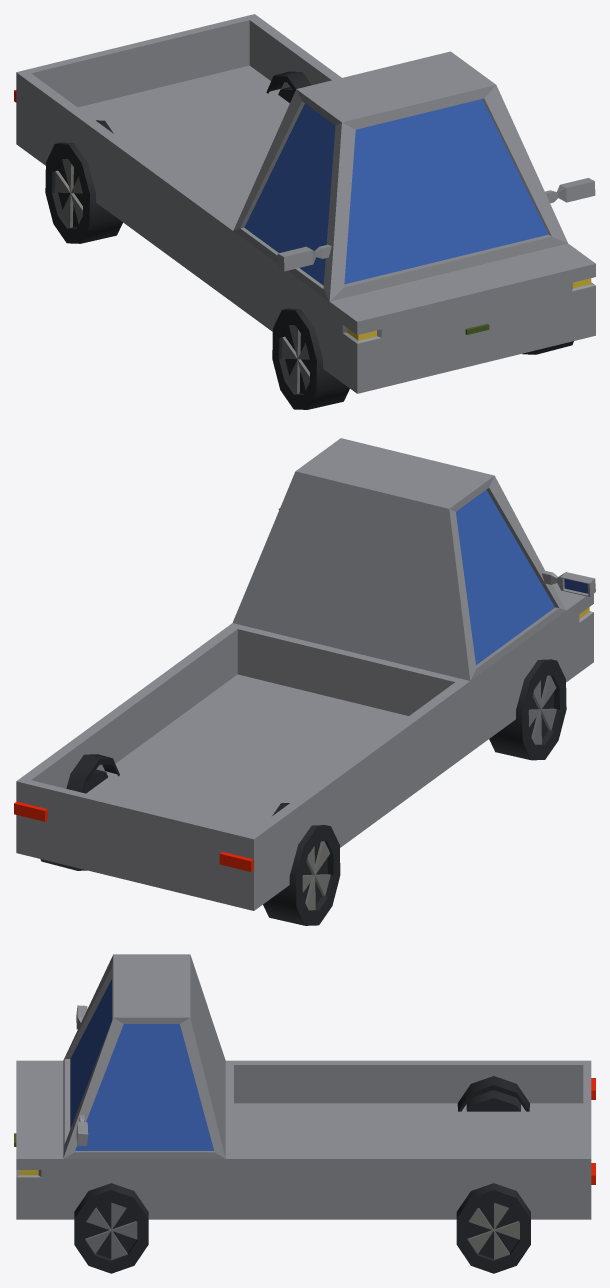
Rendered from Van_1.fbx.
3 views of the same model, one above another, from view 1: azimuth 30°, elevation 25°; view 2: azimuth 150°, elevation 25°; view 3: azimuth 270°, elevation 25° (orthographic). The views are drawn at different scales.
Parts seen in each view (by area): view 1: Van_1; view 2: Van_1; view 3: Van_1.
Boxes of the visible parts, x1,y1,x2,y2 form: Van_1: (14, 14, 595, 409); Van_1: (14, 438, 595, 925); Van_1: (14, 954, 595, 1273).
Bounding box in the file's own units: 311 × 262 × 596.
